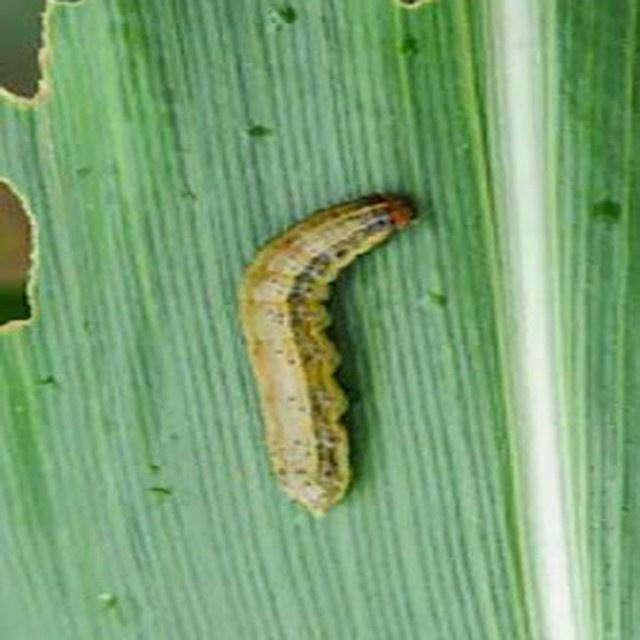gusano_cogollero: (245, 190, 417, 515)
